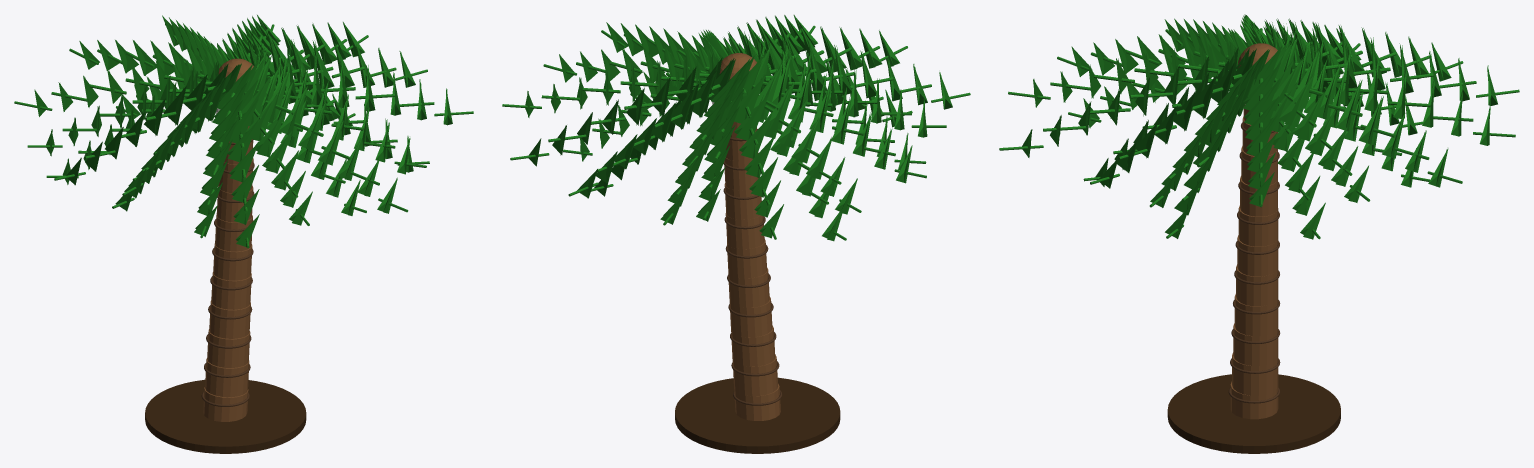
The model's file is PalmTreeOne.obj.
3 renders of one model, left to right at view 1: azimuth 30°, elevation 25°; view 2: azimuth 150°, elevation 25°; view 3: azimuth 270°, elevation 25°, orthographic. The views are drawn at different scales.
Visible parts, largest first — view 1: Palm_Soil_Base, Palm_Trunk_Segment.001, Palm_Trunk_Segment.002, Palm_Trunk_Segment.003, Palm_Trunk_Segment.004, Palm_Trunk_Segment.005, Palm_Trunk_Segment, Palm_Trunk_Segment.006, Palm_Trunk_Segment.007, Palm_Trunk_Segment.008; view 2: Palm_Soil_Base, Palm_Trunk_Segment.001, Palm_Trunk_Segment.002, Palm_Trunk_Segment.003, Palm_Trunk_Segment.004, Palm_Trunk_Segment.005, Palm_Trunk_Segment, Palm_Trunk_Segment.006, Palm_Trunk_Segment.007, Palm_Trunk_Segment.008; view 3: Palm_Soil_Base, Palm_Trunk_Segment.001, Palm_Trunk_Segment.002, Palm_Trunk_Segment.003, Palm_Trunk_Segment.004, Palm_Trunk_Segment.005, Palm_Trunk_Segment.006, Palm_Trunk_Segment, Palm_Trunk_Segment.007, Palm_Trunk_Segment.008.
Boxes of the visible parts, left/top/right/bottom form: Palm_Soil_Base: left=145, top=379, right=306, bottom=453; Palm_Trunk_Segment.001: left=205, top=358, right=249, bottom=397; Palm_Trunk_Segment.002: left=207, top=329, right=250, bottom=367; Palm_Trunk_Segment.003: left=209, top=300, right=250, bottom=338; Palm_Trunk_Segment.004: left=211, top=272, right=251, bottom=309; Palm_Trunk_Segment.005: left=213, top=243, right=252, bottom=280; Palm_Trunk_Segment: left=203, top=387, right=248, bottom=421; Palm_Trunk_Segment.006: left=215, top=215, right=252, bottom=251; Palm_Trunk_Segment.007: left=216, top=186, right=253, bottom=222; Palm_Trunk_Segment.008: left=218, top=158, right=253, bottom=193; Palm_Soil_Base: left=675, top=377, right=840, bottom=453; Palm_Trunk_Segment.001: left=732, top=354, right=778, bottom=396; Palm_Trunk_Segment.002: left=731, top=325, right=775, bottom=366; Palm_Trunk_Segment.003: left=729, top=296, right=772, bottom=337; Palm_Trunk_Segment.004: left=728, top=267, right=769, bottom=307; Palm_Trunk_Segment.005: left=727, top=239, right=766, bottom=278; Palm_Trunk_Segment: left=734, top=383, right=780, bottom=420; Palm_Trunk_Segment.006: left=725, top=213, right=764, bottom=249; Palm_Trunk_Segment.007: left=724, top=183, right=761, bottom=219; Palm_Trunk_Segment.008: left=724, top=158, right=758, bottom=190; Palm_Soil_Base: left=1167, top=374, right=1340, bottom=453; Palm_Trunk_Segment.001: left=1232, top=352, right=1278, bottom=395; Palm_Trunk_Segment.002: left=1233, top=323, right=1278, bottom=366; Palm_Trunk_Segment.003: left=1234, top=294, right=1278, bottom=336; Palm_Trunk_Segment.004: left=1236, top=264, right=1278, bottom=306; Palm_Trunk_Segment.005: left=1237, top=235, right=1278, bottom=276; Palm_Trunk_Segment.006: left=1238, top=205, right=1278, bottom=246; Palm_Trunk_Segment: left=1230, top=381, right=1278, bottom=419; Palm_Trunk_Segment.007: left=1240, top=176, right=1277, bottom=216; Palm_Trunk_Segment.008: left=1241, top=146, right=1277, bottom=184.
Bounding box in the file's own units: 4.27 × 3.98 × 4.8.
